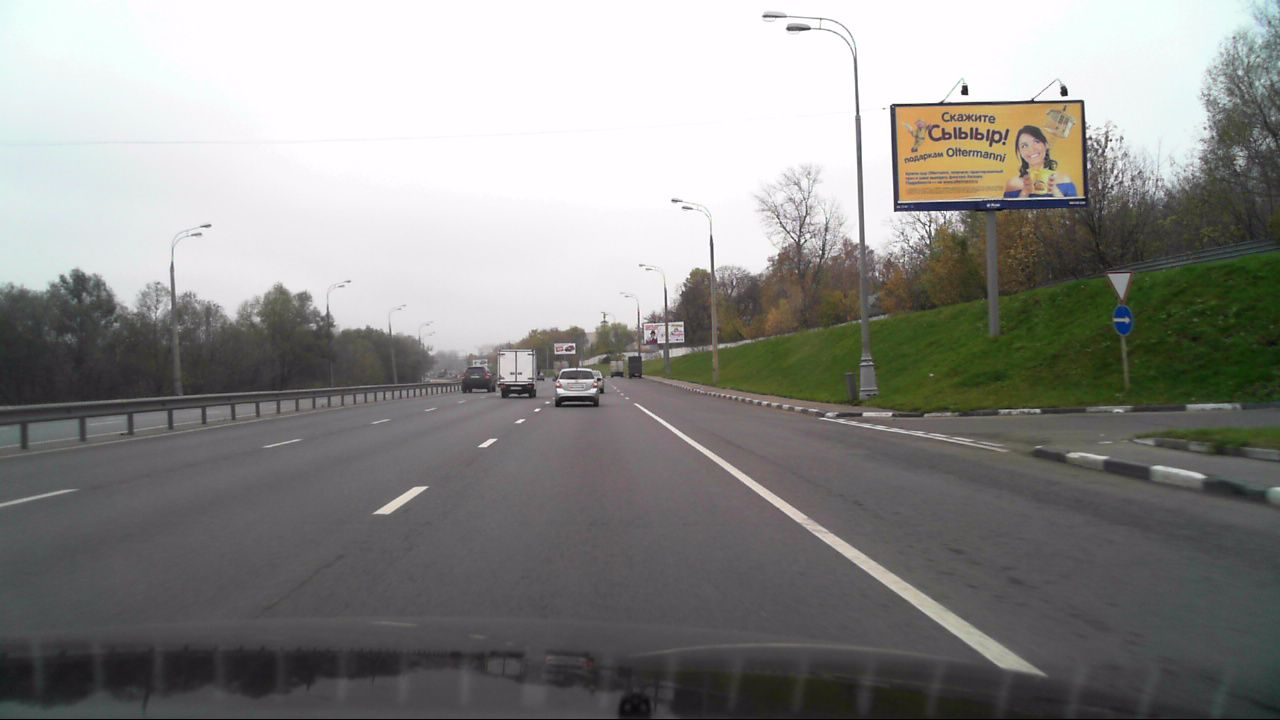Turn Right: (1113, 305, 1133, 336)
